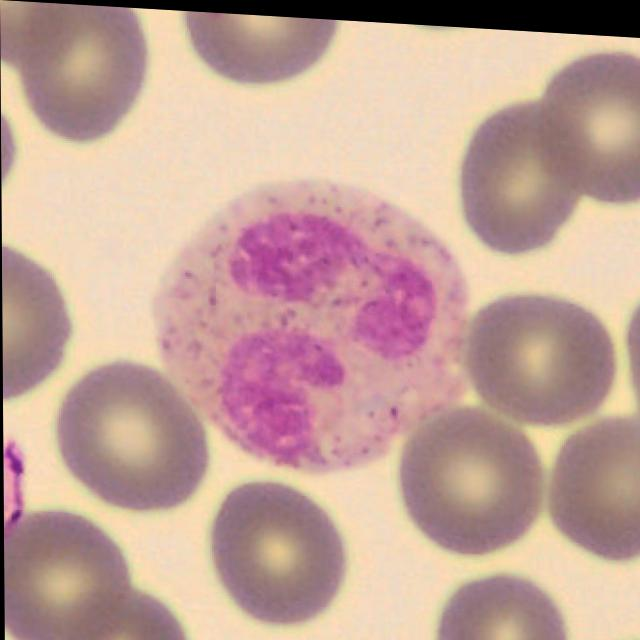Neutrofilo segmentado: (146, 172, 472, 471)
